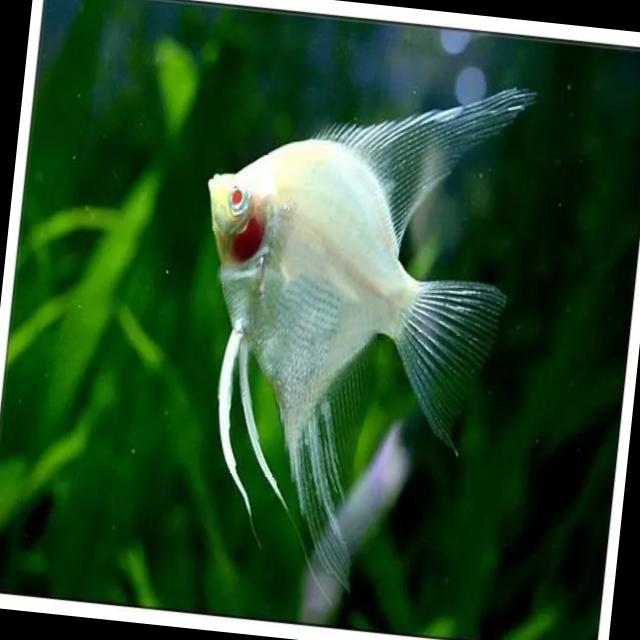AngelFish: (172, 58, 534, 620)
